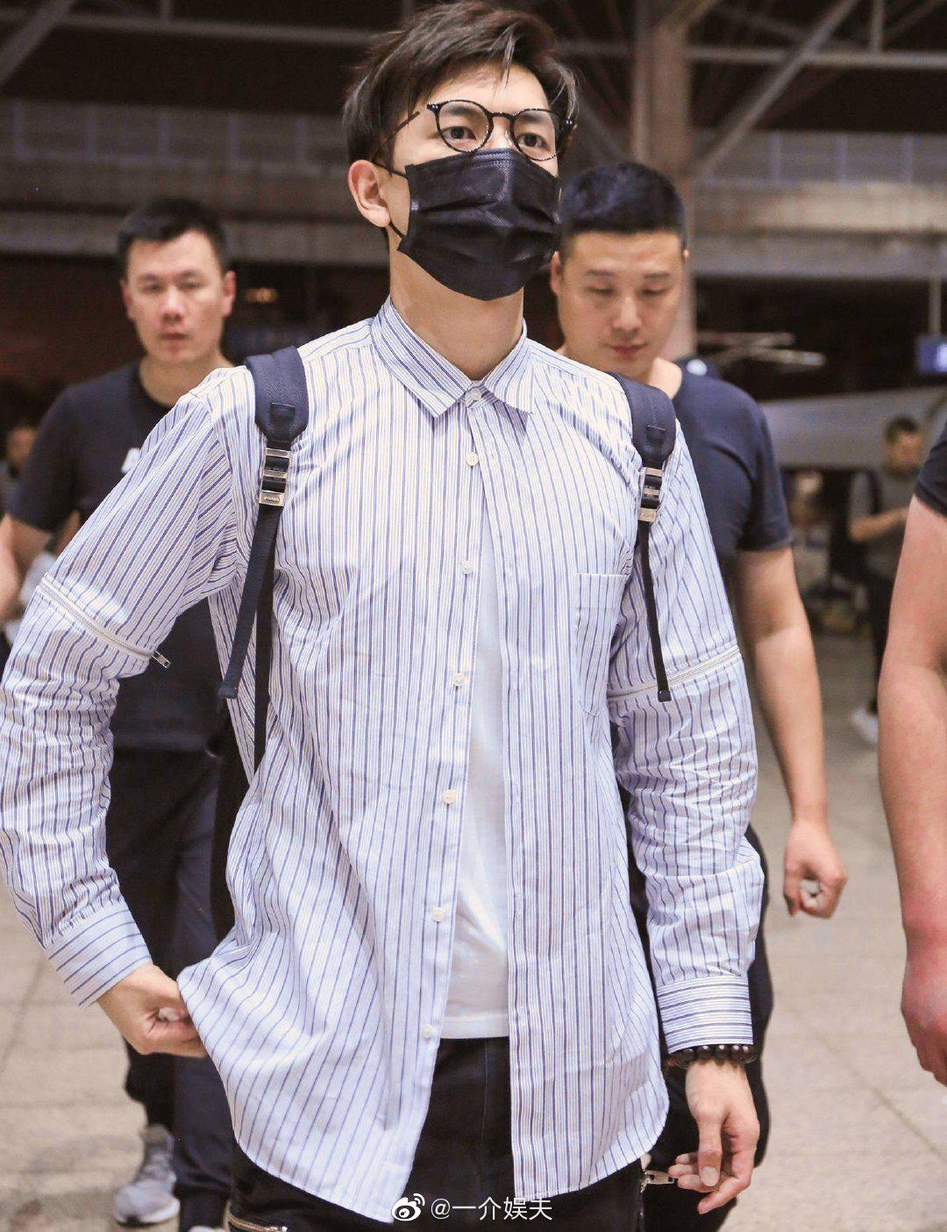NONE: (563, 254, 678, 380), (130, 256, 220, 369), (887, 422, 921, 469)
OK: (395, 101, 555, 302)
